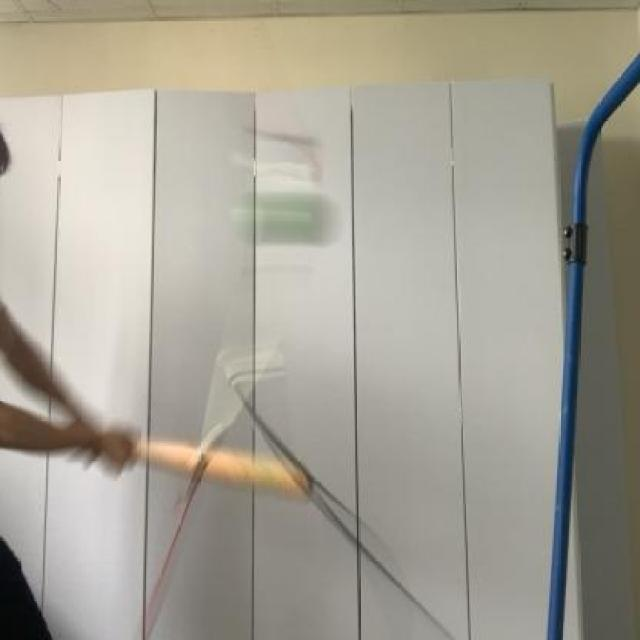baseball: (233, 178, 342, 256)
